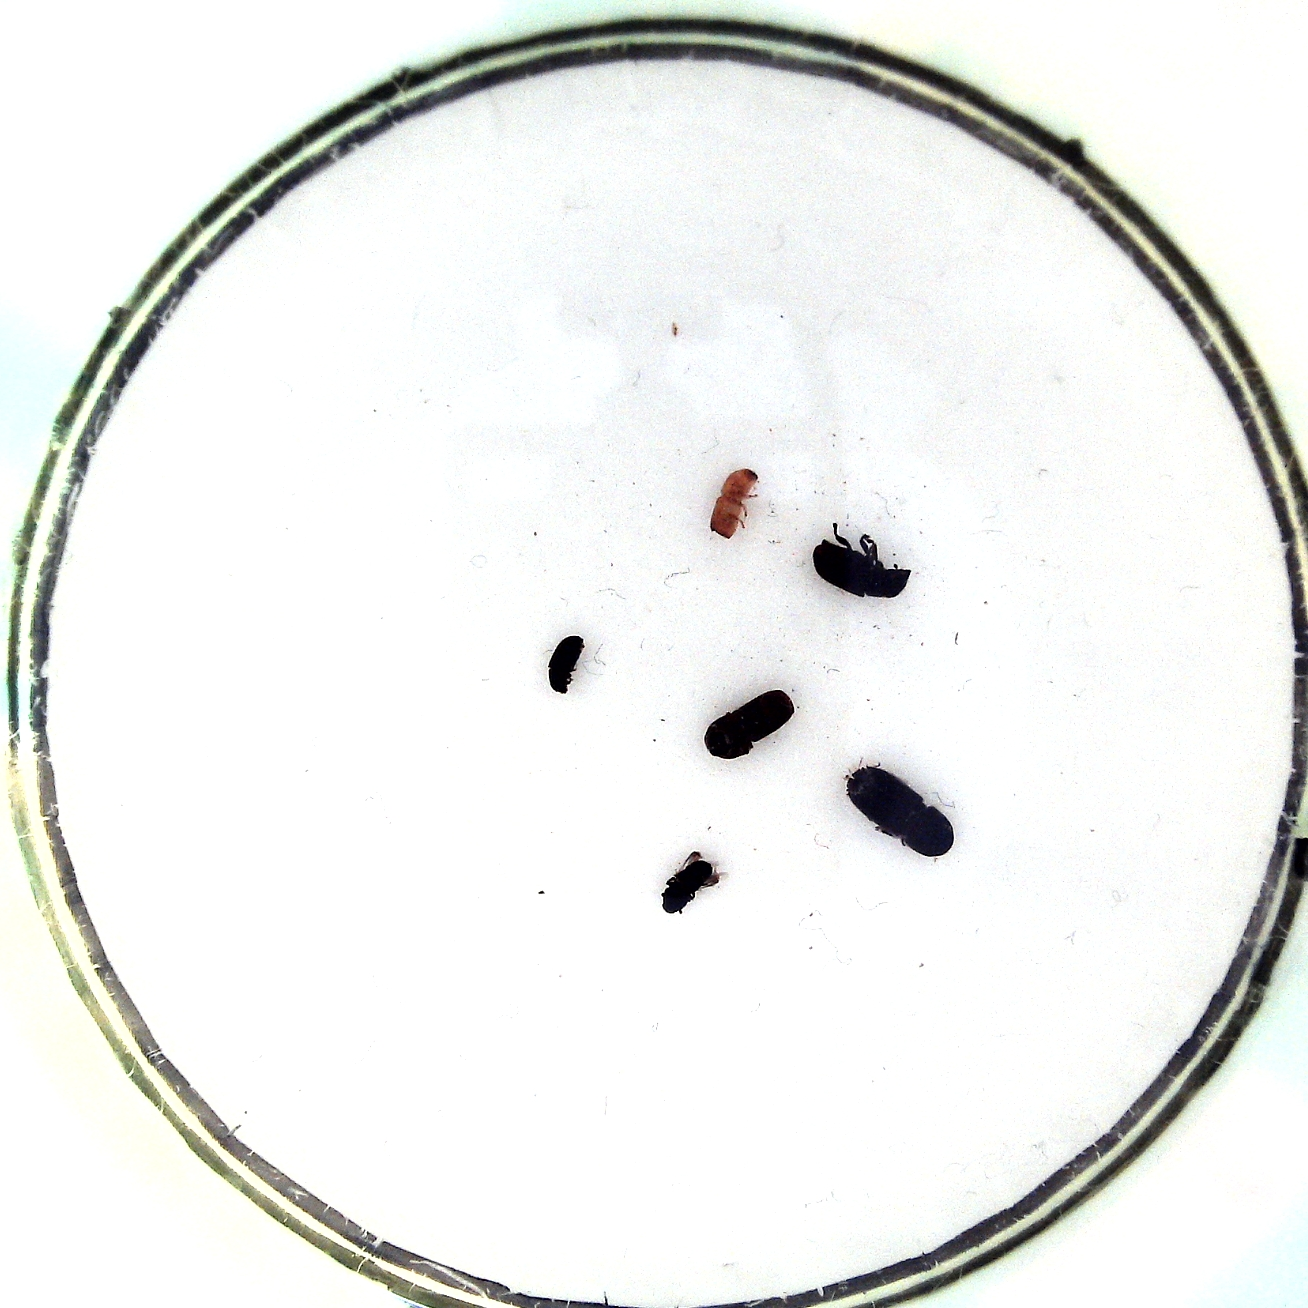Boerner: (841, 755, 961, 860)
Linnaeus: (698, 686, 798, 762)
acuminatus: (702, 466, 767, 545)
armandi: (807, 517, 916, 602)
coleoptera: (653, 848, 731, 919), (546, 632, 589, 696)
